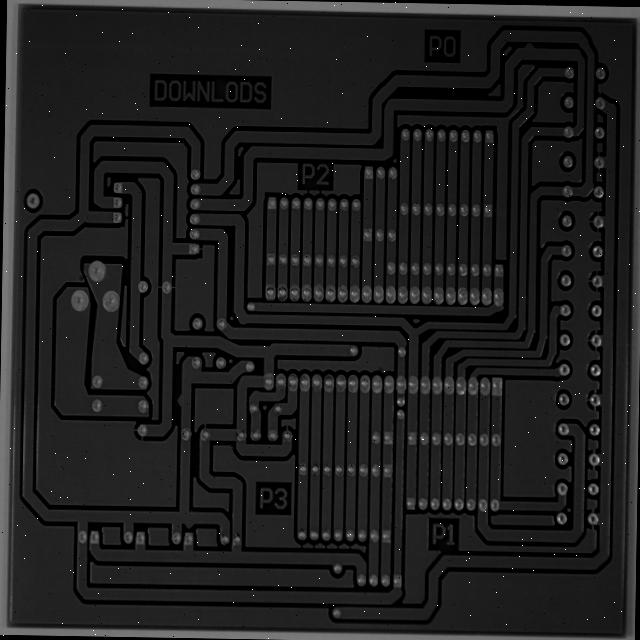spur: (121, 341, 135, 368), (128, 496, 145, 511)
